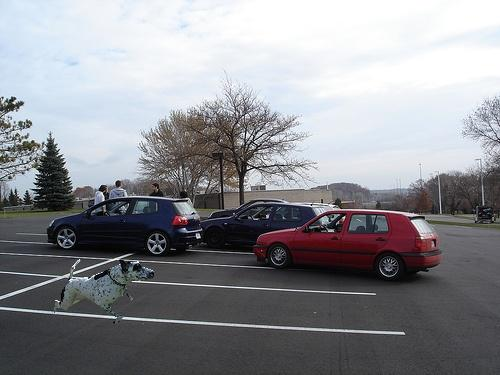tampered: (55, 260, 154, 324)
